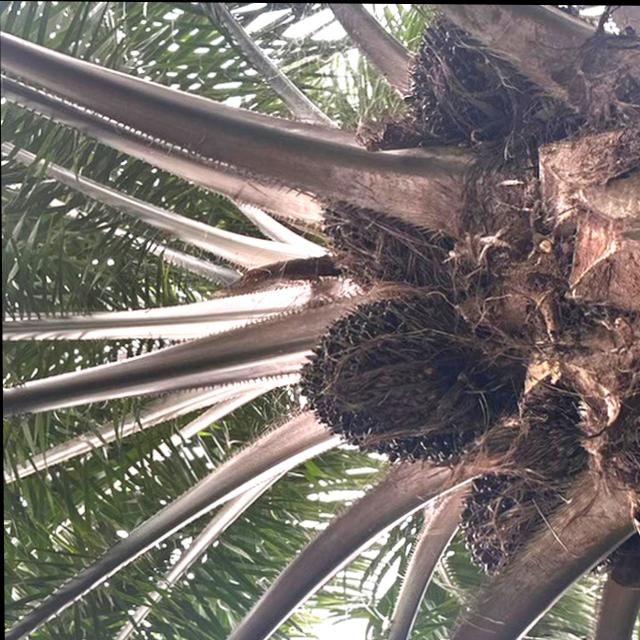unripe: (290, 285, 509, 468)
